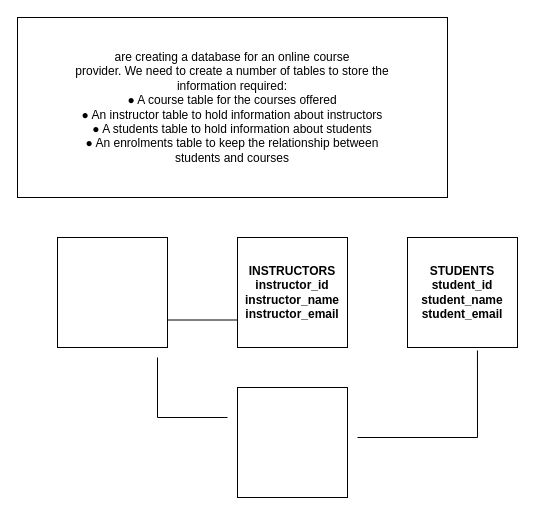
The diagram is 535 pixels wide and 515 high, and some of its shapes have lost their labels. The centre of each missing label's shape, as x and y in pixels:
COURSES course_id course_name description: [112,292]
ENROLMENTS enrolment_id student_id course_id: [292,442]
